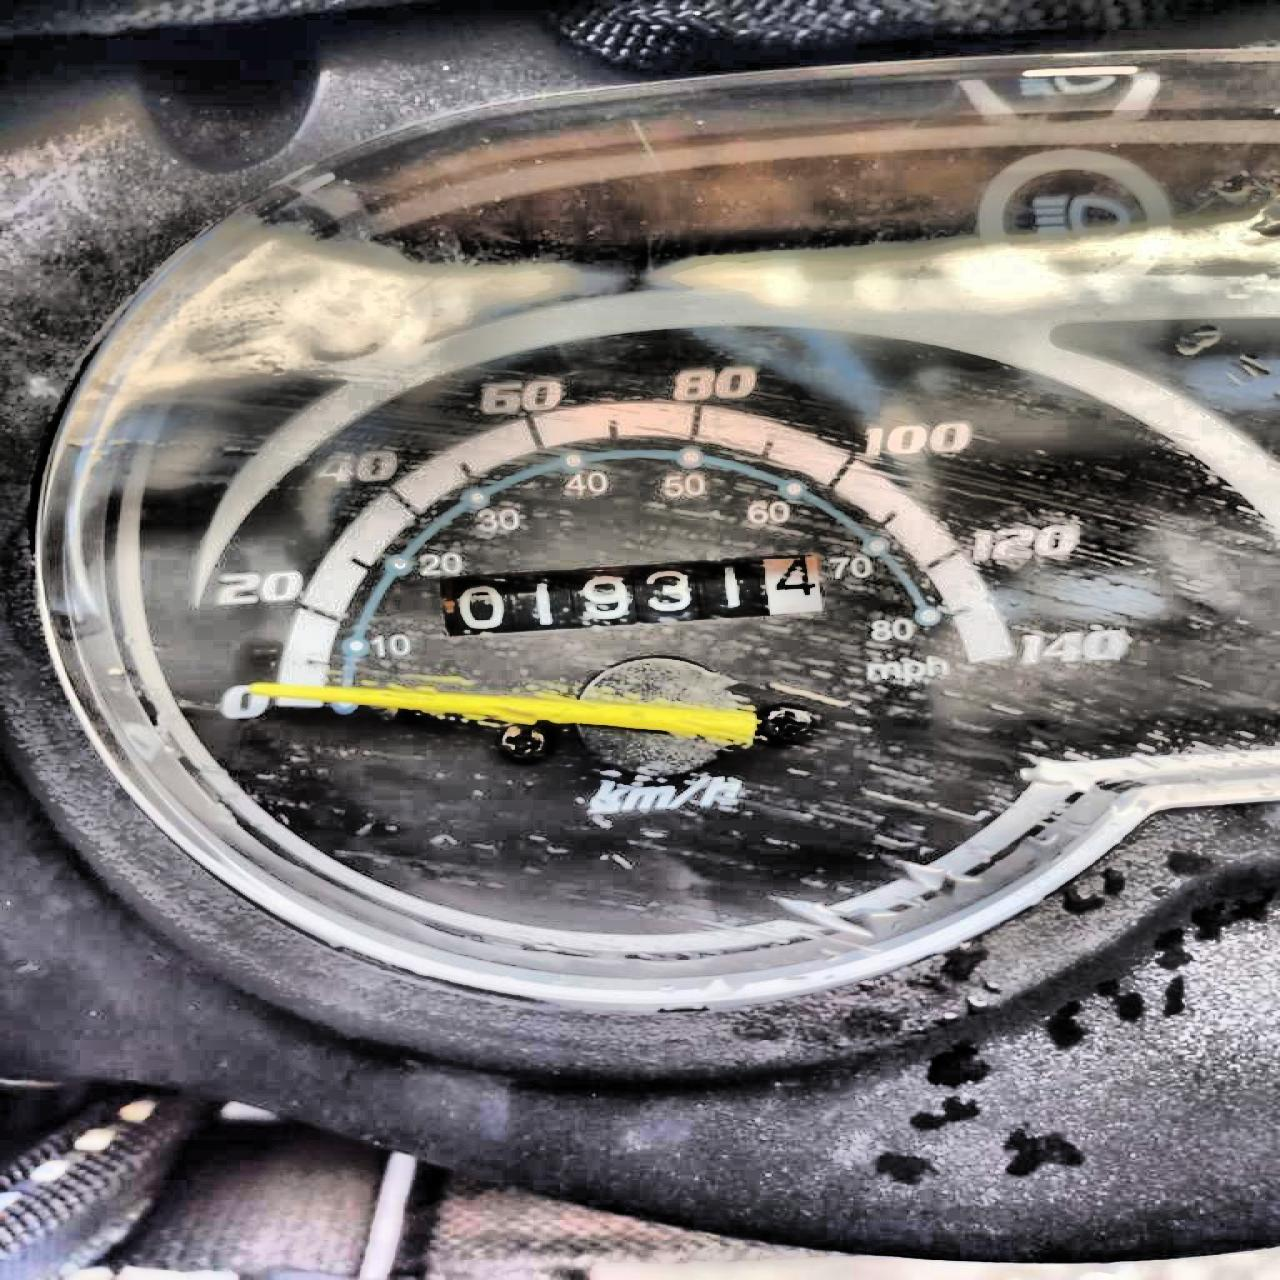0: (454, 581, 506, 628), (438, 550, 462, 574)
1: (526, 578, 557, 627), (715, 561, 747, 608)
3: (640, 567, 695, 613)
4: (771, 556, 817, 595)
9: (577, 572, 631, 620)
odometer: (434, 546, 830, 641)
